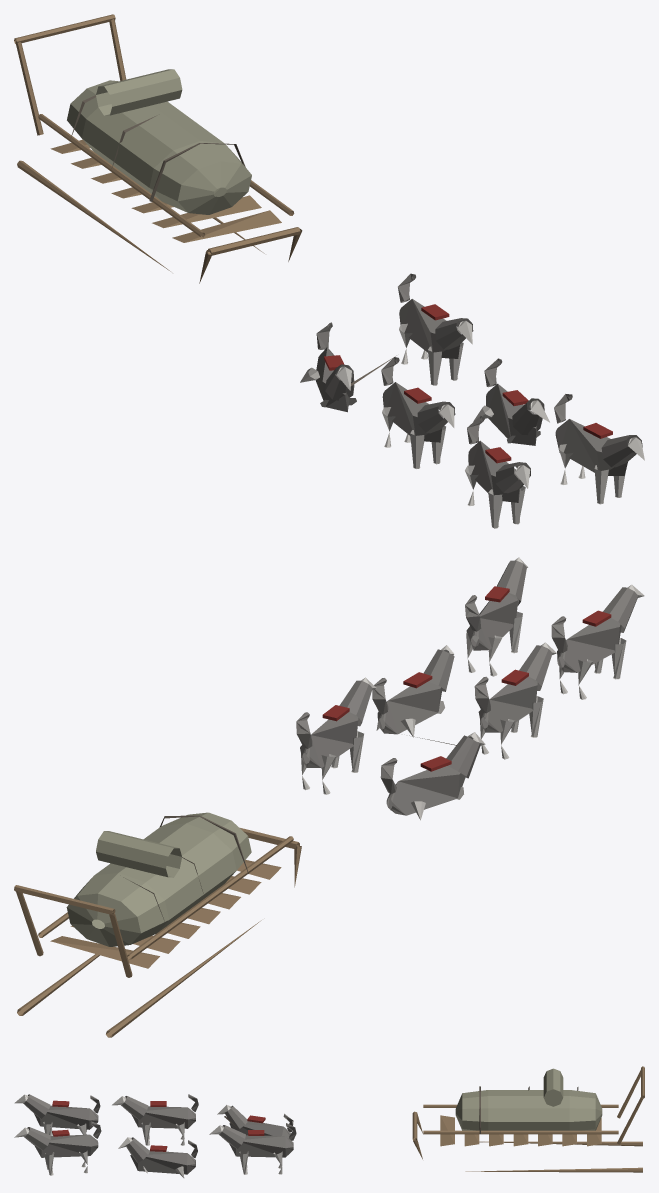
File: dog-sled-lod1.glb
The picture shows the model from 3 angles, top to bottom: view 1: azimuth 30°, elevation 25°; view 2: azimuth 150°, elevation 25°; view 3: azimuth 270°, elevation 25°; orthographic projection. The views are drawn at different scales.
Size of the model in its own units: 1.22 by 1.09 by 7.75.
